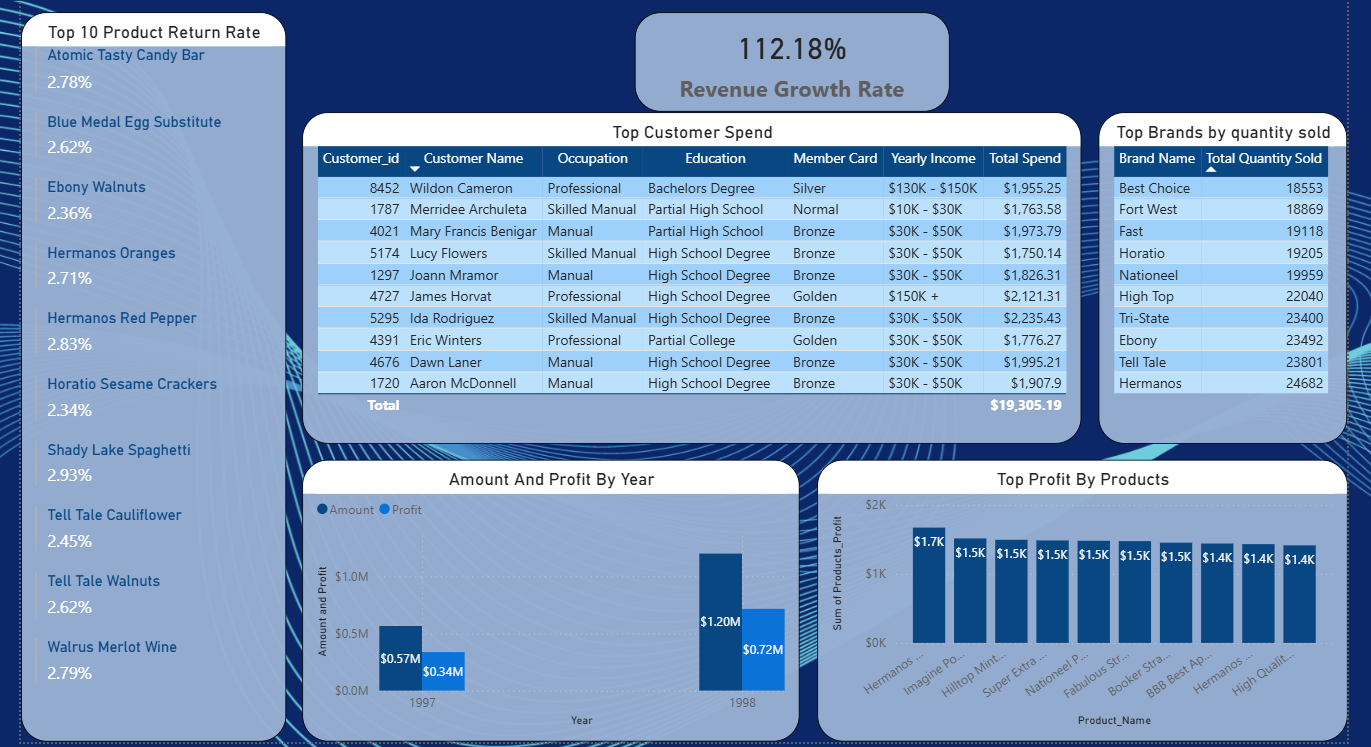

The dashboard page shown, as its layout file describes it:
{"tool":"powerbi","page":{"name":"Page 2","canvas":[1280,720],"ordinal":1},"visuals":[{"type":"card","fields":{"Values":["Sum(vw_AnnualRevenueGrowth.Revenue_Growth_Rate)"]},"box":[592,16,304,96],"z":0},{"type":"multiRowCard","title":"Top 10 Product Return Rate","fields":{"Values":["vw_ProductReturnRate.product_name","Sum(vw_ProductReturnRate.Return_Rate_Percentage)"]},"box":[0,16,256,704],"z":1000},{"type":"tableEx","title":"Top Brands by quantity sold","fields":{"Values":["vw_TopBrandsSold.Brand_Name","Sum(vw_TopBrandsSold.Total_Quantity_Sold)"]},"box":[1040,112,240,320],"z":2000},{"type":"columnChart","title":"Top Profit By Products","fields":{"Category":["vw_TopProductsProfit.Product_Name"],"Y":["Sum(vw_TopProductsProfit.Products_Profit)"]},"box":[768,448,512,272],"z":3000},{"type":"clusteredColumnChart","title":"Amount And Profit By Year","fields":{"Category":["vw_YearlyRevenueProfit.Year"],"Y":["Sum(vw_YearlyRevenueProfit.Total_Revenue)","Sum(vw_YearlyRevenueProfit.Total_Profit)"]},"box":[272,448,480,272],"z":4000},{"type":"tableEx","title":"Top Customer Spend","fields":{"Values":["vw_TopCustomersSpend.customer_id","vw_TopCustomersSpend.Customer_Name","vw_TopCustomersSpend.occupation","vw_TopCustomersSpend.education","vw_TopCustomersSpend.member_card","vw_TopCustomersSpend.yearly_income","Sum(vw_TopCustomersSpend.Total_Spend)"]},"box":[272,112,752,320],"z":5000}]}

Visuals, with their boxes on the page's 1280x720 design canvas (x1, y1, x2, y2). These are canvas units, not pixel positions in the 1371x747 screenshot, which may show the page scaled, cropped or inside an application window:
card - Sum(vw_AnnualRevenueGrowth.Revenue_Growth_Rate): box(592, 16, 896, 112)
"Top 10 Product Return Rate" multiRowCard: box(0, 16, 256, 720)
"Top Brands by quantity sold" tableEx: box(1040, 112, 1280, 432)
"Top Profit By Products" columnChart: box(768, 448, 1280, 720)
"Amount And Profit By Year" clusteredColumnChart: box(272, 448, 752, 720)
"Top Customer Spend" tableEx: box(272, 112, 1024, 432)
